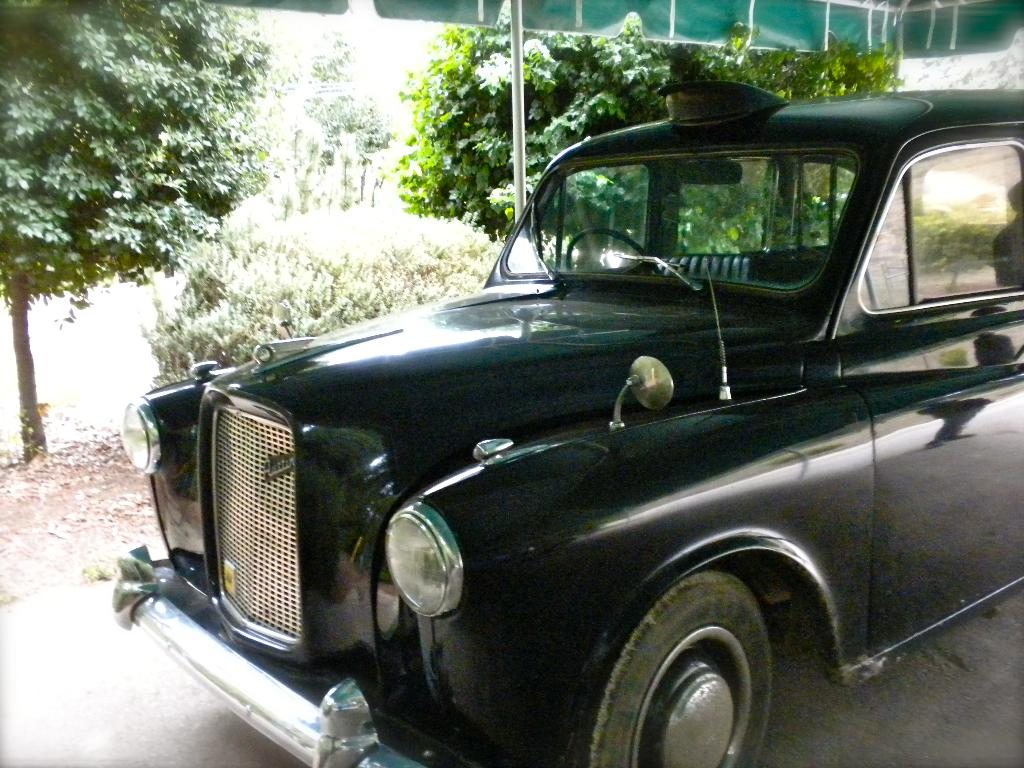Tree: (379, 1, 905, 256), (1, 1, 270, 462), (272, 25, 387, 206)
